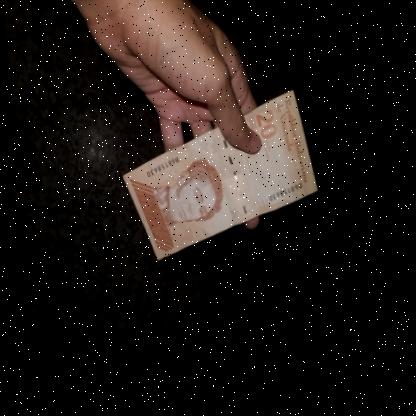twenty-front-vef: (112, 88, 320, 266)
